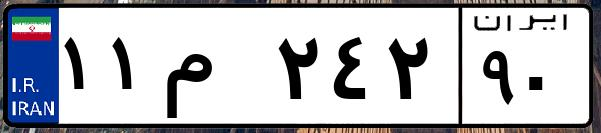0: (525, 38, 570, 115)
1: (57, 26, 110, 100), (110, 28, 158, 98)
2: (270, 28, 330, 110), (385, 28, 445, 110)
4: (330, 28, 385, 110)
9: (475, 38, 525, 113)
م: (158, 20, 270, 120)
